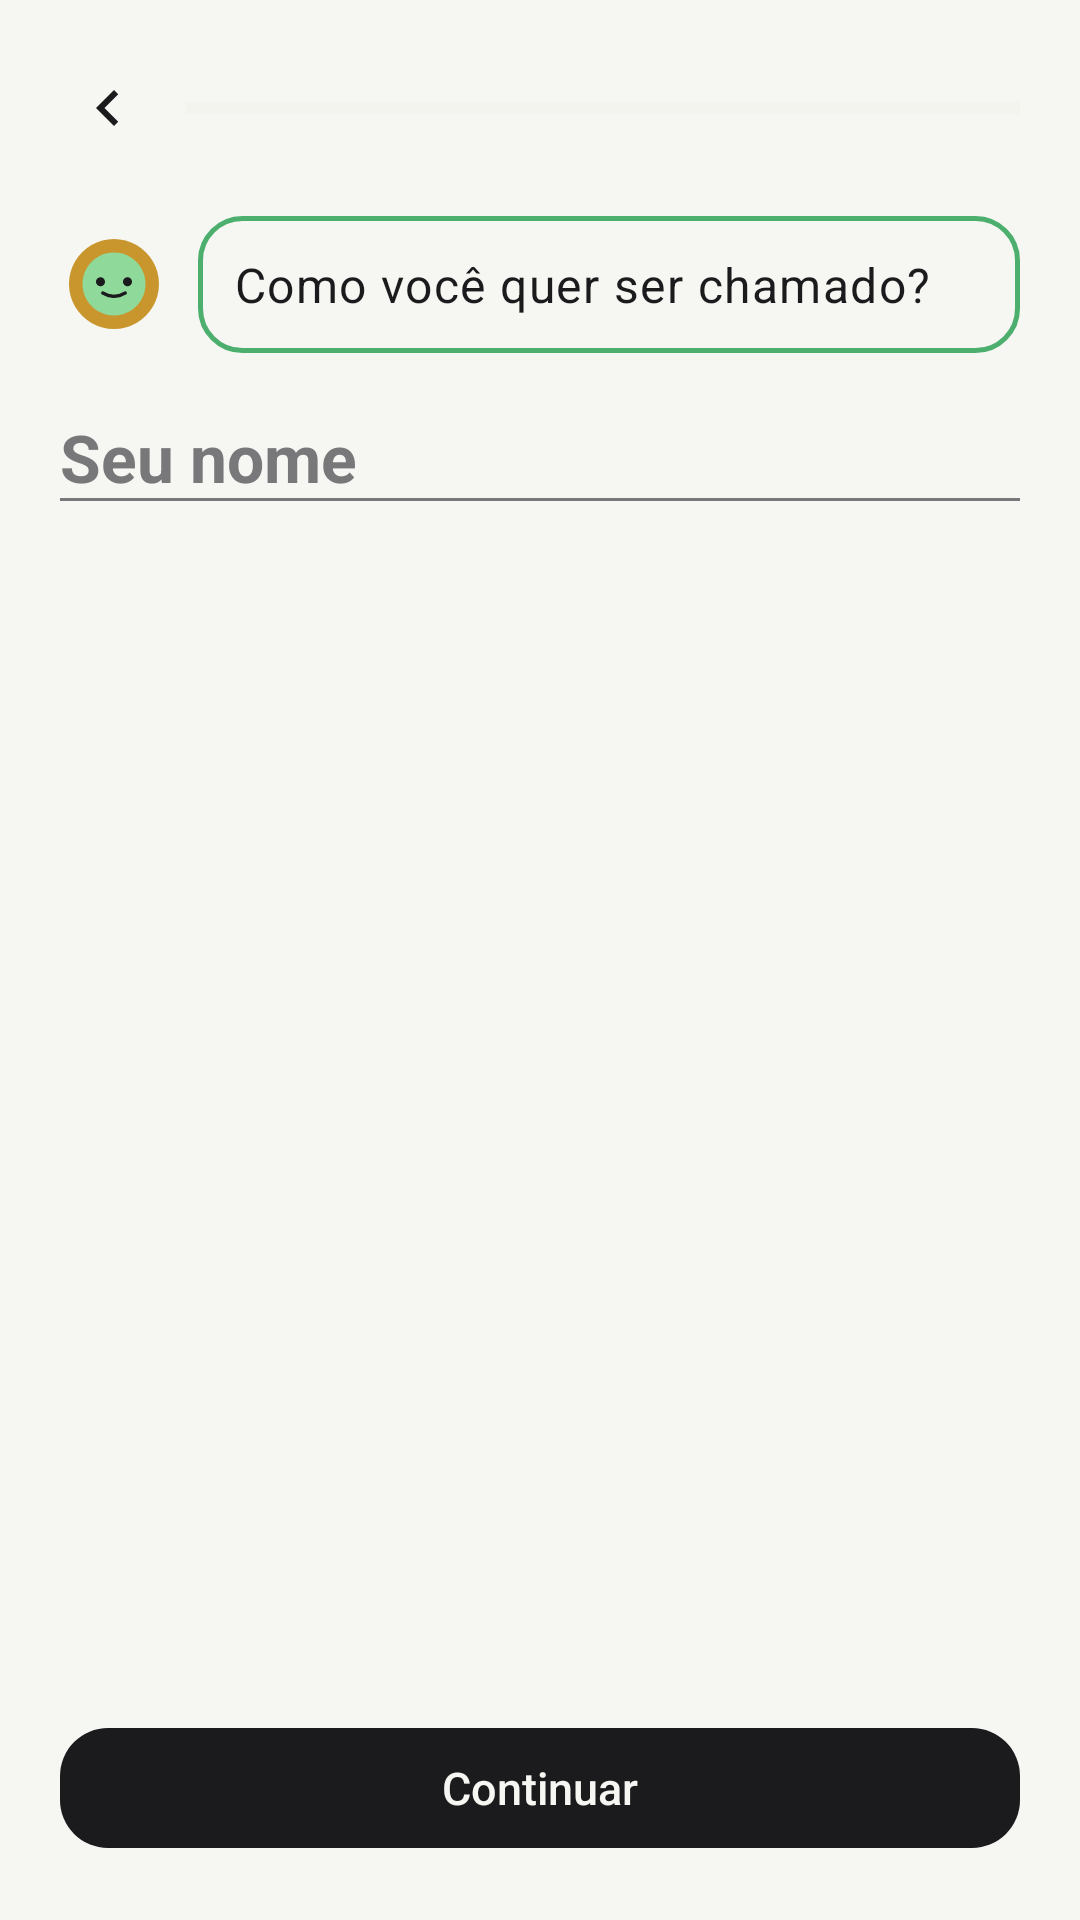

Locate icon controls on the screen. Image size 1080x1920, boxes as (x1, y1, x2, y2).
Mascote do Anota+: (69, 239, 159, 329)
Voltar: (96, 90, 118, 126)
